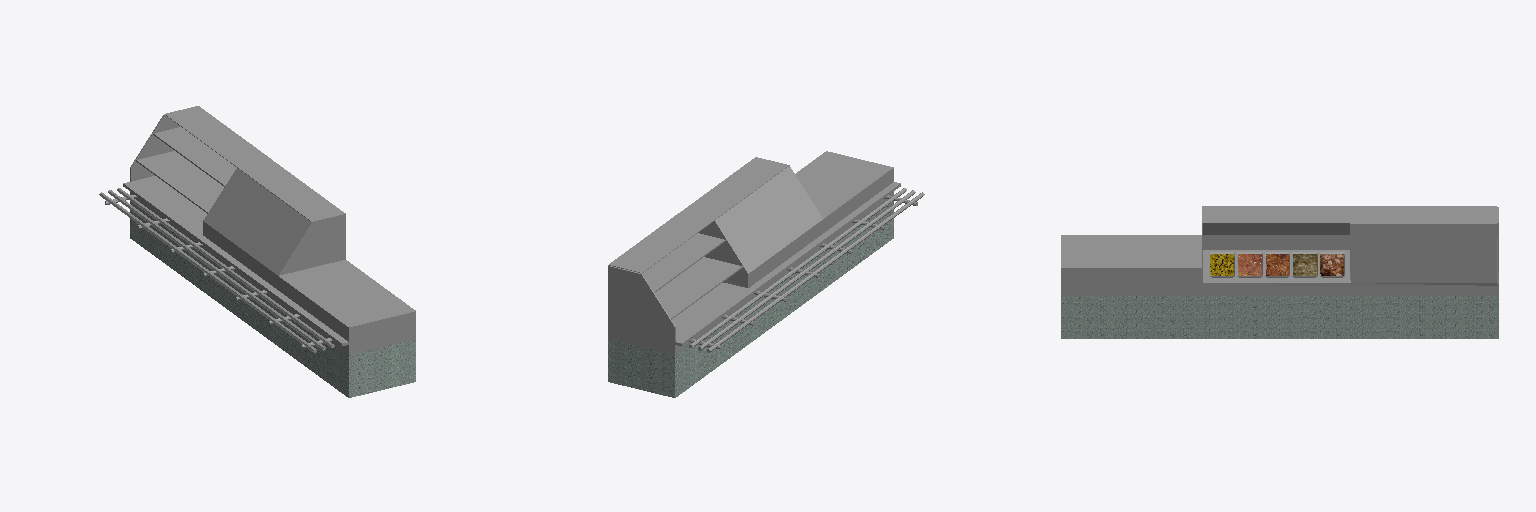
3 renders of one model, left to right at view 1: azimuth 30°, elevation 25°; view 2: azimuth 150°, elevation 25°; view 3: azimuth 270°, elevation 25°, orthographic.
Visible parts, largest first — view 1: Cube, Cube.003, Cube.006, Cylinder.001_Cylinder.003, Cube.005; view 2: Cube, Cube.003, Cube.006, Cylinder.001_Cylinder.003, Cube.005; view 3: Cube, Cube.006, Cube.005, Cube.003, Cube.001, Plane.004, Plane.002, Plane.005, Plane.001.
Boxes of the visible parts, x1=… form: Cube: x1=123, y1=106, x2=415, y2=345; Cube.003: x1=136, y1=127, x2=311, y2=274; Cube.006: x1=130, y1=201, x2=415, y2=397; Cylinder.001_Cylinder.003: x1=99, y1=188, x2=334, y2=352; Cube.005: x1=130, y1=192, x2=415, y2=354; Cube: x1=608, y1=151, x2=900, y2=345; Cube.003: x1=642, y1=166, x2=822, y2=319; Cube.006: x1=608, y1=201, x2=893, y2=397; Cylinder.001_Cylinder.003: x1=689, y1=188, x2=924, y2=352; Cube.005: x1=608, y1=192, x2=893, y2=354; Cube: x1=1061, y1=206, x2=1498, y2=285; Cube.006: x1=1061, y1=296, x2=1498, y2=338; Cube.005: x1=1061, y1=286, x2=1498, y2=295; Cube.003: x1=1203, y1=223, x2=1349, y2=234; Cube.001: x1=1210, y1=252, x2=1344, y2=277; Plane.004: x1=1238, y1=254, x2=1261, y2=275; Plane.002: x1=1293, y1=254, x2=1316, y2=275; Plane.005: x1=1210, y1=254, x2=1233, y2=275; Plane.001: x1=1320, y1=254, x2=1343, y2=275.
Size of the model in its own units: 1.81 by 1.94 by 6.62.
Materials: 11 (6 with a texture image).